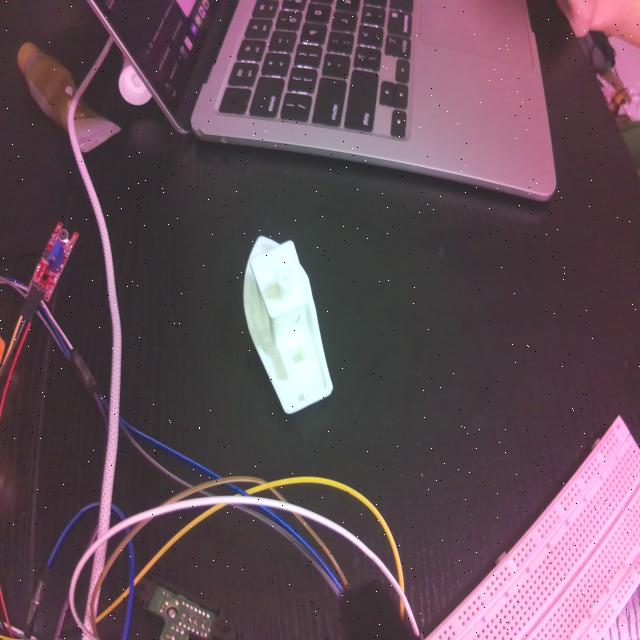ship: (242, 230, 334, 417)
